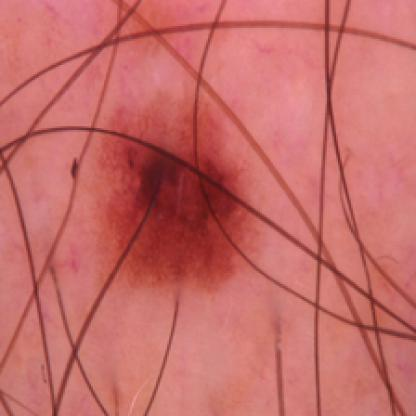benign: (91, 97, 254, 284)
